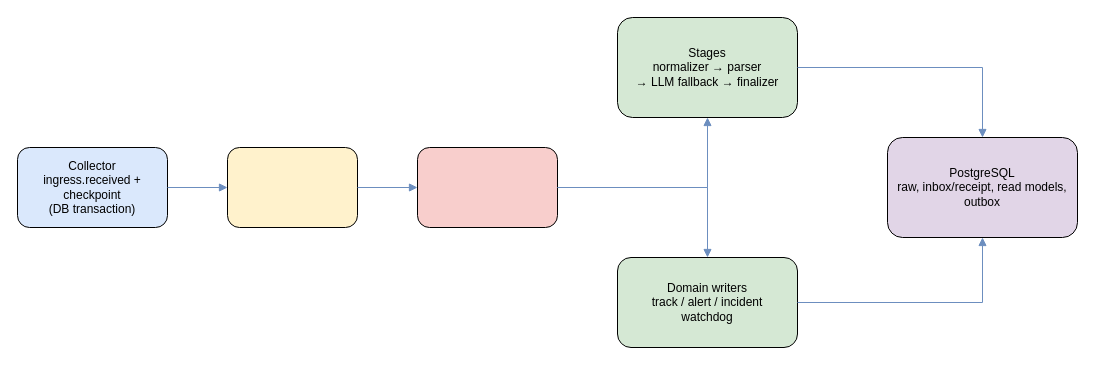
This 1095x365 diagram has some shape labels left out. Each missing label, with the box of its shape:
Outbox relay publisher confirm: (226, 146, 358, 228)
RabbitMQ lanes / subscriptions: (416, 146, 558, 228)
